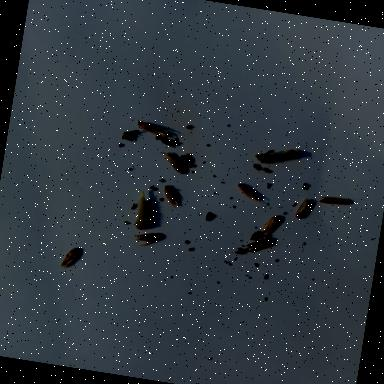pbw: (242, 231, 282, 259), (132, 116, 174, 142), (157, 148, 193, 178), (127, 226, 165, 250), (314, 191, 357, 210), (256, 210, 285, 238), (56, 243, 83, 272), (159, 184, 186, 210), (293, 195, 314, 221)
